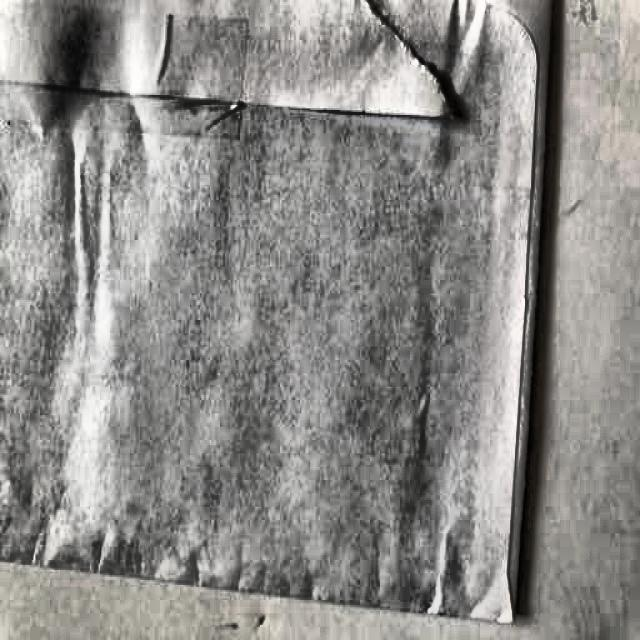paper: (0, 0, 566, 637)
